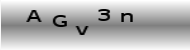3: (97, 7, 111, 21)
A: (26, 8, 42, 23)
G: (51, 13, 68, 28)
n: (120, 11, 134, 23)
v: (74, 23, 90, 35)
